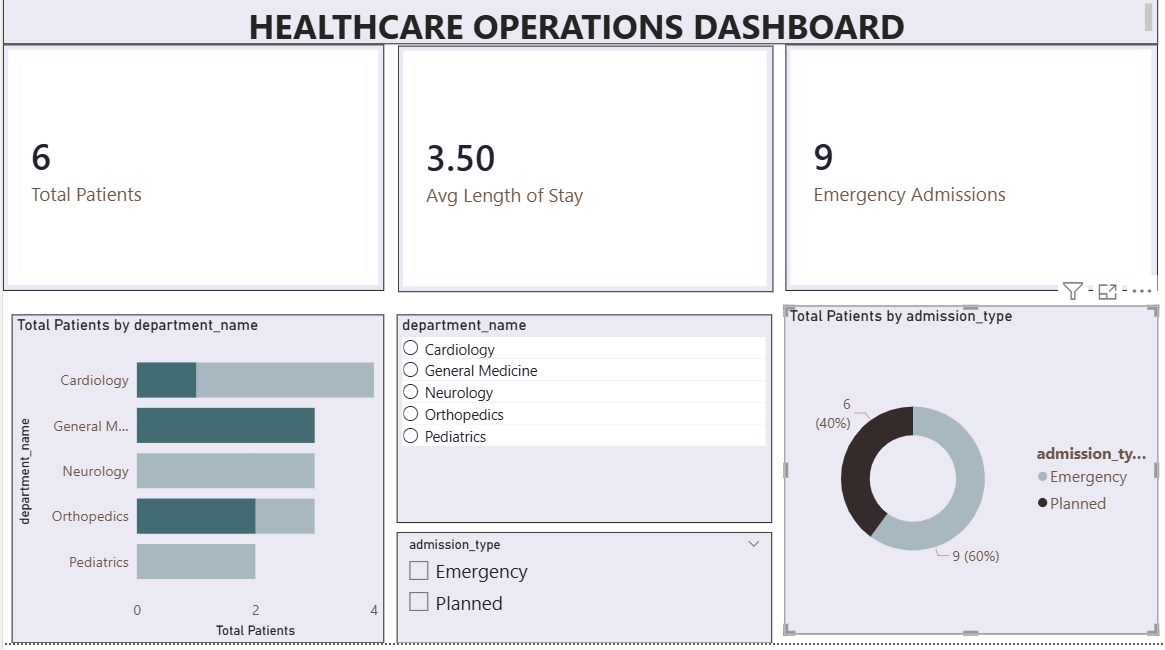

The dashboard page shown, as its layout file describes it:
{"tool":"powerbi","page":{"name":"Executive Overview","canvas":[1280,720],"ordinal":0},"visuals":[{"type":"cardVisual","fields":{"Data":["dim_date.Total Patients"]},"box":[0,63.1,418.5,270.3],"z":0},{"type":"cardVisual","fields":{"Data":["dim_date.Avg Length of Stay"]},"box":[433.6,64.5,411.7,270.3],"z":1000},{"type":"cardVisual","fields":{"Data":["dim_date.Emergency Admissions"]},"box":[859,63.1,408.9,270.3],"z":2000},{"type":"barChart","fields":{"Category":["dim_department.department_name"],"Y":["dim_date.Total Patients"]},"box":[9.6,359.5,408.9,360.9],"z":3000},{"type":"donutChart","fields":{"Category":["fact_admissions.admission_type"],"Y":["dim_date.Total Patients"]},"box":[857.6,359.5,410.3,360.9],"z":4000},{"type":"listSlicer","fields":{"Values":["dim_department.department_name"]},"box":[432.2,359.5,411.7,229.2],"z":5000},{"type":"slicer","fields":{"Values":["fact_admissions.admission_type"]},"box":[432.2,598.3,411.7,122.1],"z":6000},{"type":"textbox","box":[170.2,12.3,938.6,50.8],"z":7000}]}

Visuals, with their boxes in screenshot pixels (x1, y1, x2, y2), scaled from the page's 1280x720 canvas onto the 1165x650 screenshot:
cardVisual - dim_date.Total Patients: bbox=[0, 57, 381, 301]
cardVisual - dim_date.Avg Length of Stay: bbox=[395, 58, 769, 302]
cardVisual - dim_date.Emergency Admissions: bbox=[782, 57, 1154, 301]
barChart - dim_department.department_name x dim_date.Total Patients: bbox=[9, 325, 381, 649]
donutChart - fact_admissions.admission_type x dim_date.Total Patients: bbox=[781, 325, 1154, 649]
listSlicer - dim_department.department_name: bbox=[393, 325, 768, 531]
slicer - fact_admissions.admission_type: bbox=[393, 540, 768, 649]
textbox: bbox=[155, 11, 1009, 57]
